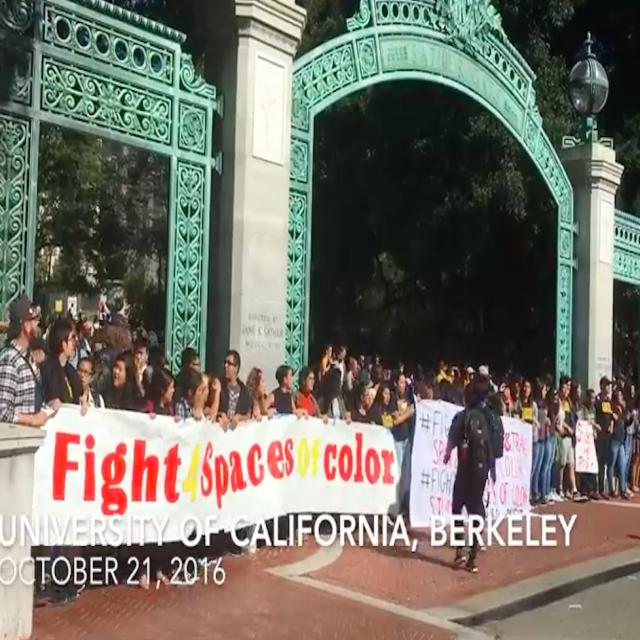body: (441, 379, 497, 575), (137, 366, 180, 590), (0, 292, 63, 429), (0, 286, 117, 352), (216, 348, 252, 556), (417, 356, 520, 418), (316, 365, 350, 538), (39, 315, 90, 418), (386, 369, 416, 534), (473, 381, 504, 536), (512, 375, 539, 505), (594, 375, 619, 501), (348, 350, 416, 396), (616, 372, 640, 501), (606, 386, 632, 501), (576, 388, 602, 502), (529, 378, 551, 506), (97, 352, 141, 412), (170, 362, 208, 425), (555, 379, 574, 501), (292, 365, 330, 425), (546, 387, 566, 499), (262, 363, 300, 421), (75, 354, 106, 409), (130, 336, 155, 399), (245, 364, 272, 422), (364, 380, 396, 426), (332, 343, 348, 426), (173, 345, 201, 390), (349, 382, 373, 424), (203, 372, 222, 423), (569, 380, 584, 415), (320, 343, 334, 377), (562, 374, 573, 396)
